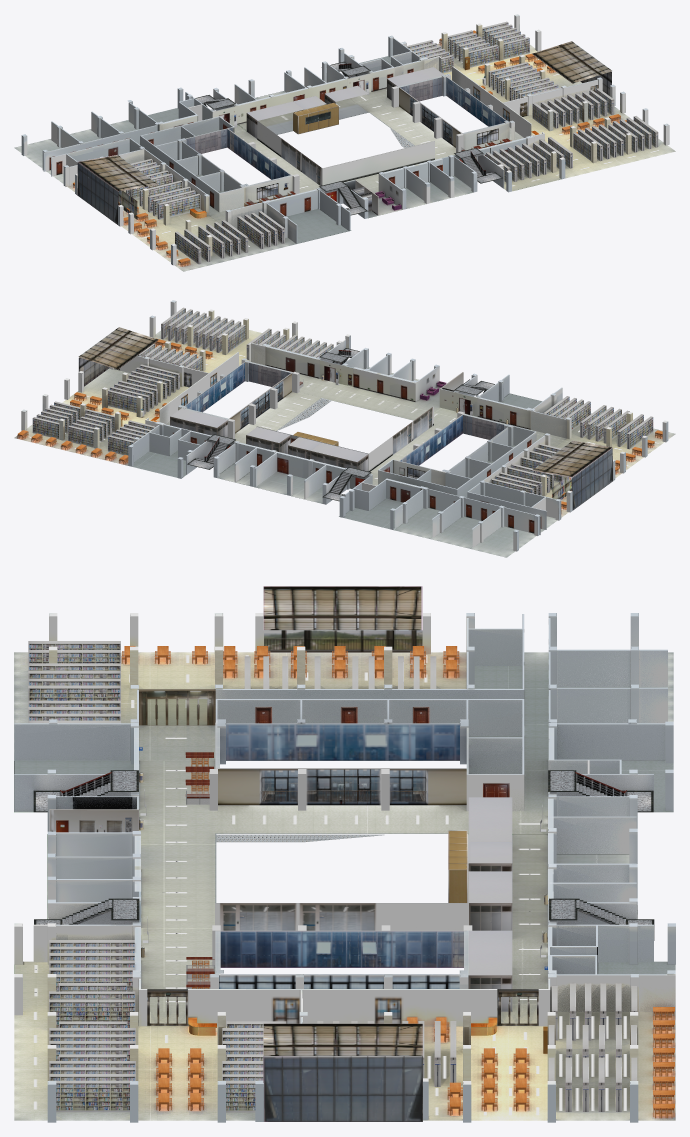
3 views of the same model, one above another, from view 1: azimuth 30°, elevation 25°; view 2: azimuth 150°, elevation 25°; view 3: azimuth 270°, elevation 25° (orthographic). The views are drawn at different scales.
Visible parts, largest first — view 1: 内墙01, Plane1217, 墙2, 柱子（基础）01, 5f两侧, 地面7（4F）, 报告厅上, 地面6（4F）, 地面2(样本), 地面8（报刊）, Plane1677, 对象001 (+11 smaller); view 2: 内墙01, Plane1217, 墙2, 柱子（基础）01, 5f两侧, 地面7（4F）, 地面6（4F）, 地面1(样本), Plane1677, 地面3（报刊）, 地面8（报刊）, 地面2(样本) (+12 smaller); view 3: 内墙01, 5f两侧, 地面7（4F）, 墙2, Plane1677, 地面3（报刊）, 柱子（基础）01, 地面2(样本), 地面6（4F）, 地面8（报刊）, 报告厅上, 地面1(样本) (+18 smaller).
Boxes of the visible parts, x1,y1,x2,y2 form: 内墙01: (51, 38, 544, 243); Plane1217: (159, 60, 526, 216); 墙2: (43, 66, 598, 191); 柱子（基础）01: (21, 14, 669, 265); 5f两侧: (77, 41, 611, 224); 地面7（4F）: (238, 91, 561, 243); 报告厅上: (257, 121, 434, 185); 地面6（4F）: (148, 56, 455, 192); 地面2(样本): (121, 174, 296, 271); 地面8（报刊）: (492, 77, 675, 178); Plane1677: (227, 87, 463, 179); 对象001: (378, 65, 449, 209); 内墙01: (131, 339, 566, 547); Plane1217: (163, 346, 531, 502); 墙2: (114, 352, 546, 534); 柱子（基础）01: (21, 300, 668, 551); 5f两侧: (78, 327, 612, 510); 地面7（4F）: (218, 367, 542, 503); 地面6（4F）: (132, 392, 443, 529); 地面1(样本): (393, 508, 568, 557); Plane1677: (228, 372, 463, 465); 地面3（报刊）: (14, 391, 169, 465); 地面8（报刊）: (84, 330, 261, 409); 地面2(样本): (469, 413, 675, 509); 内墙01: (14, 618, 675, 1026); 5f两侧: (263, 586, 422, 1121); 地面7（4F）: (14, 761, 637, 1011); 墙2: (188, 614, 550, 1026); Plane1677: (215, 768, 466, 967); 地面3（报刊）: (423, 1012, 675, 1120); 柱子（基础）01: (14, 613, 675, 1122); 地面2(样本): (14, 652, 422, 760); 地面6（4F）: (216, 761, 675, 1011); 地面8（报刊）: (14, 1012, 255, 1120); 报告厅上: (215, 903, 468, 930); 地面1(样本): (422, 652, 673, 760).
Size of the model in its own units: 277 by 17.98 by 164.
